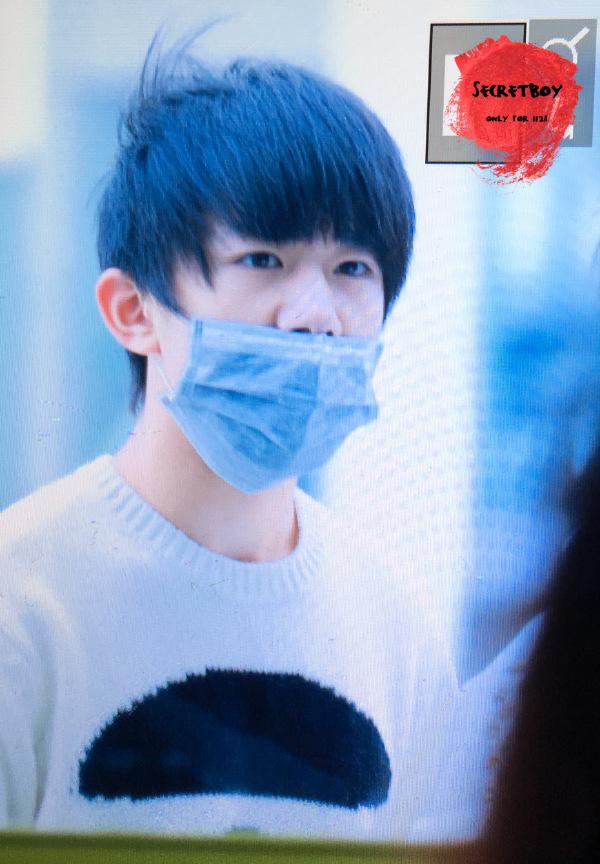WRONG: (169, 208, 389, 487)
